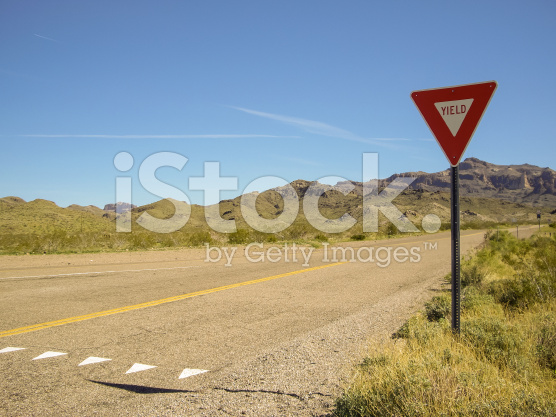yield_sign: (408, 78, 497, 165)
